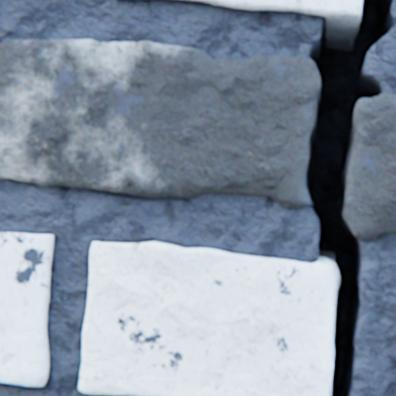brick: (79, 241, 333, 395), (0, 232, 55, 385), (176, 0, 361, 17)
broken_brick: (0, 39, 320, 207), (344, 93, 395, 239)
crack: (305, 0, 393, 395)
